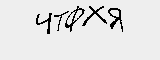Т: (50, 10, 67, 37)
Ф: (63, 5, 86, 35)
Х: (82, 2, 109, 28)
Ч: (34, 11, 54, 38)
Я: (107, 7, 127, 32)
